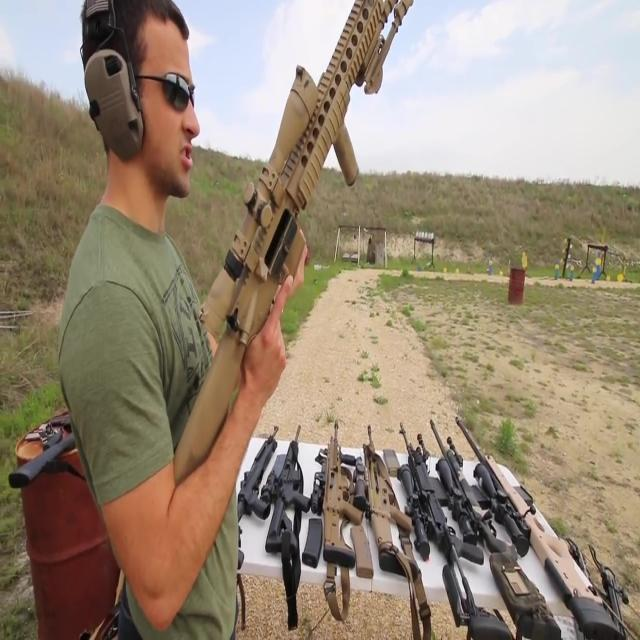Weapon: (143, 0, 417, 430)
